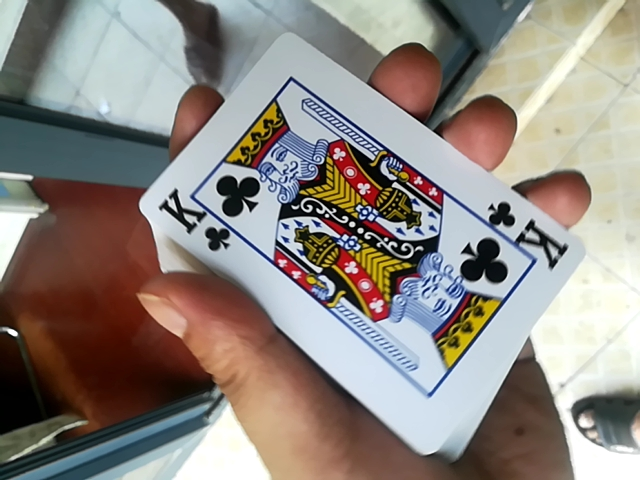mh k: (130, 17, 565, 453)
